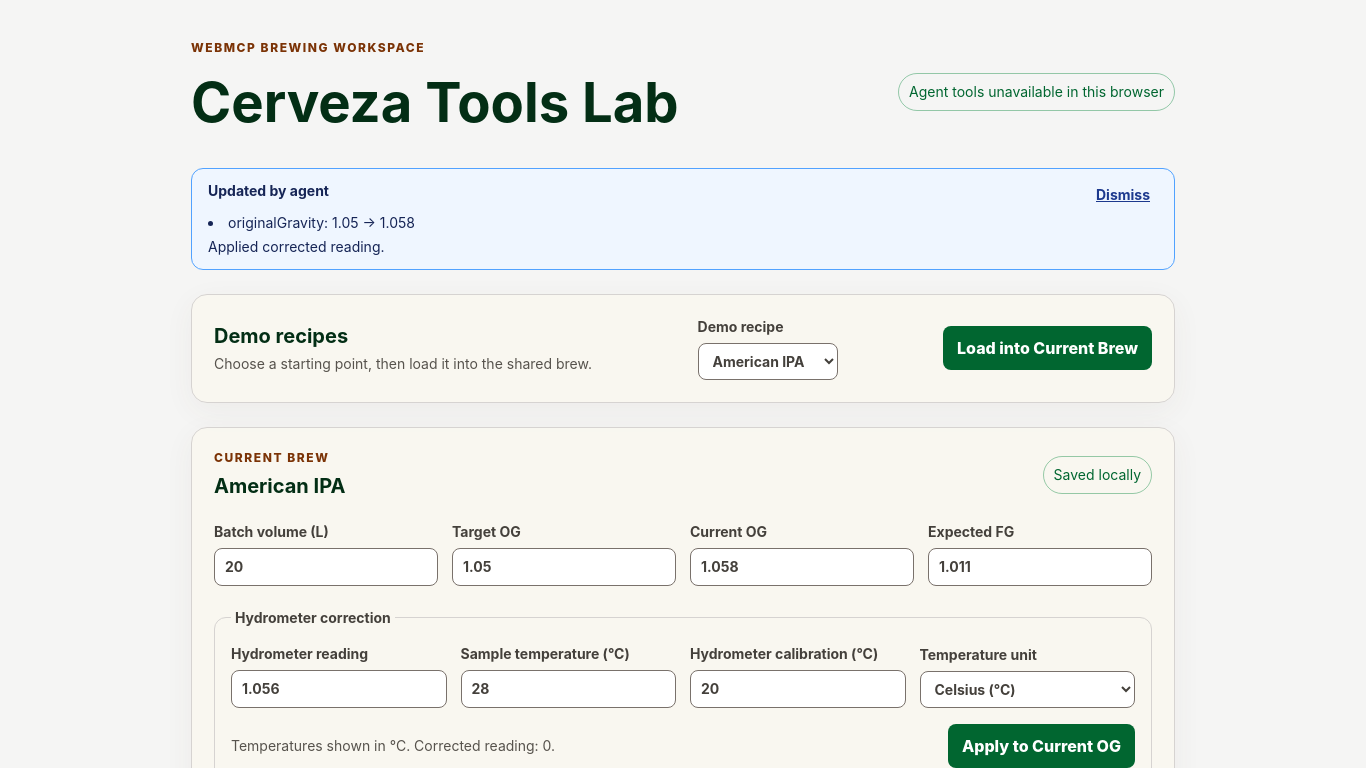
App › shows the field and value changed by an agent
expect the text "Updated by agent" shows "originalGravity: 1.05 → 1.058": met, box [191, 168, 1175, 270]
expect the text "Updated by agent" shows "Applied corrected reading.": met, box [208, 238, 384, 255]
Click the button "Dismiss" at (1123, 195), box [1088, 181, 1158, 209]
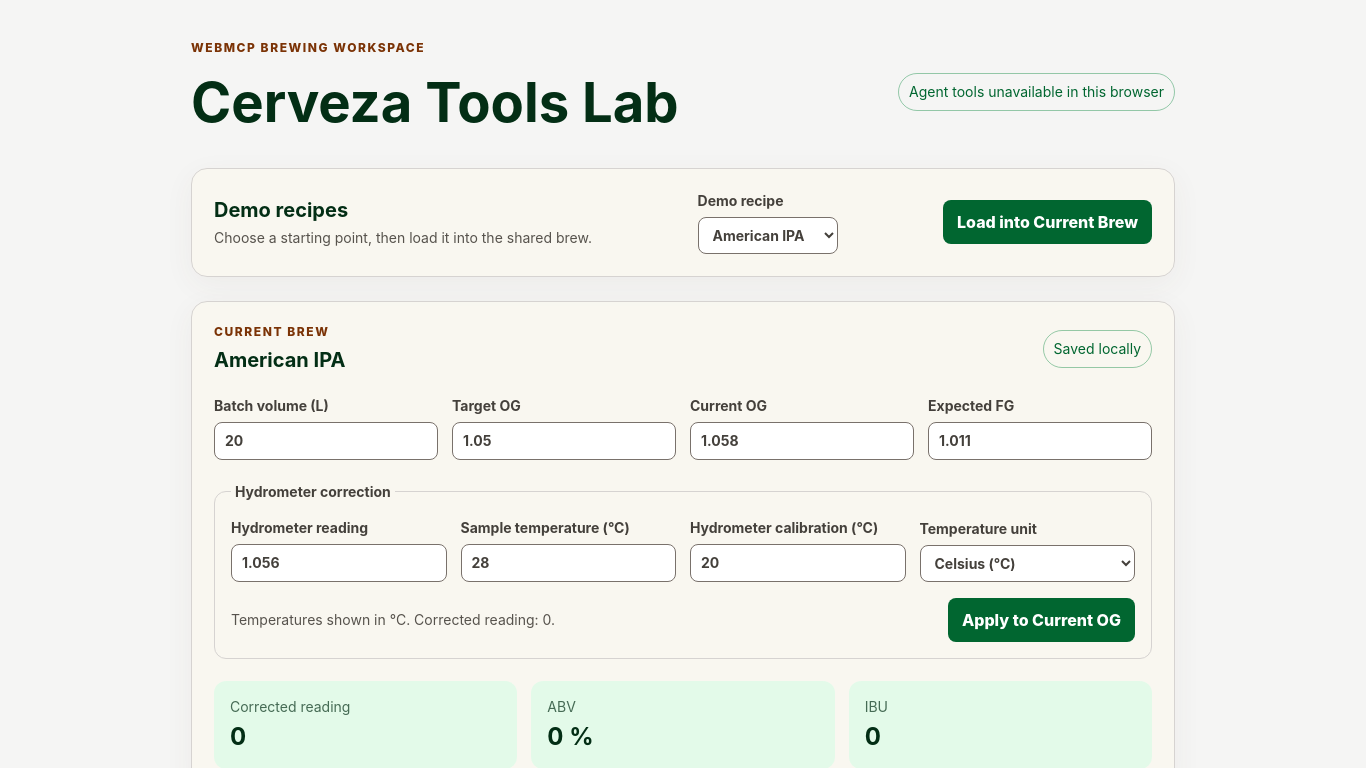
expect the text "Updated by agent" is gone: met
